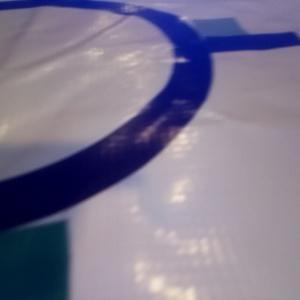bottom_right: (1, 180, 69, 300)
top_right: (175, 17, 248, 51)
